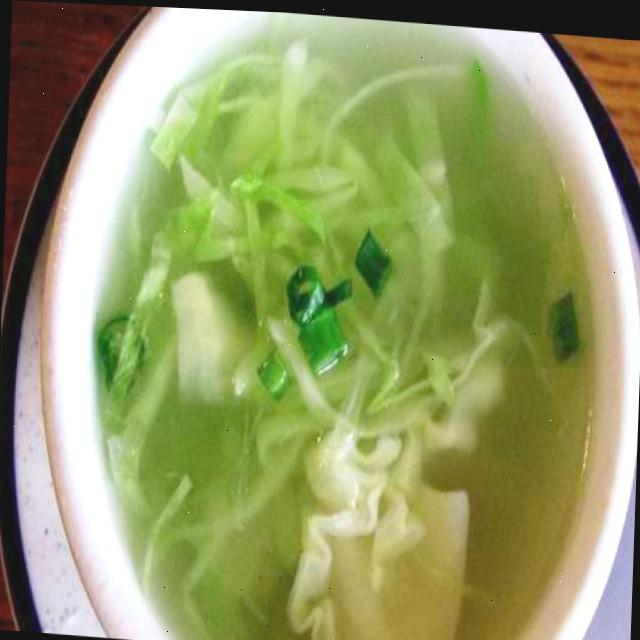汤锅炖物: (64, 8, 629, 640)
